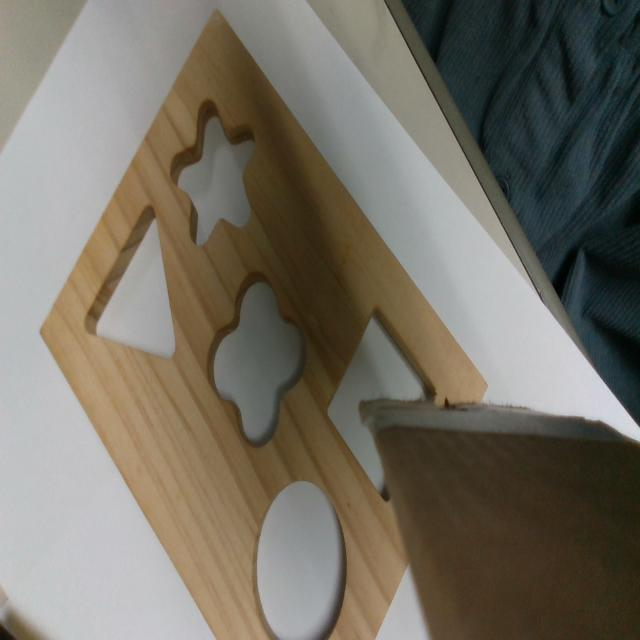circle: (256, 482, 349, 638)
flower: (209, 270, 305, 441)
square: (327, 305, 438, 503)
star: (167, 99, 256, 246)
triangle: (84, 199, 178, 362)
